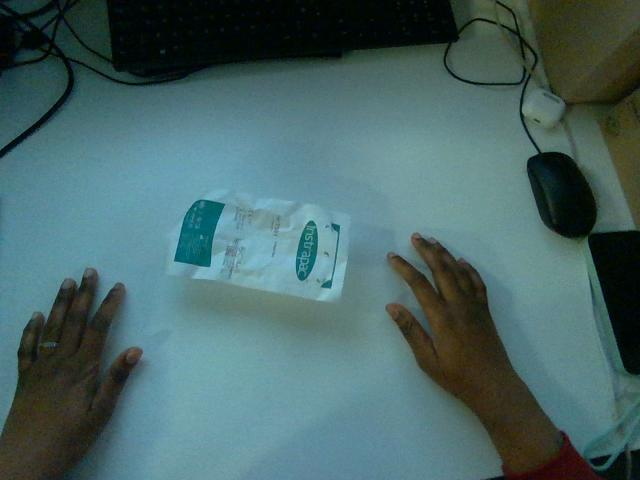gallipot: (166, 190, 349, 300)
